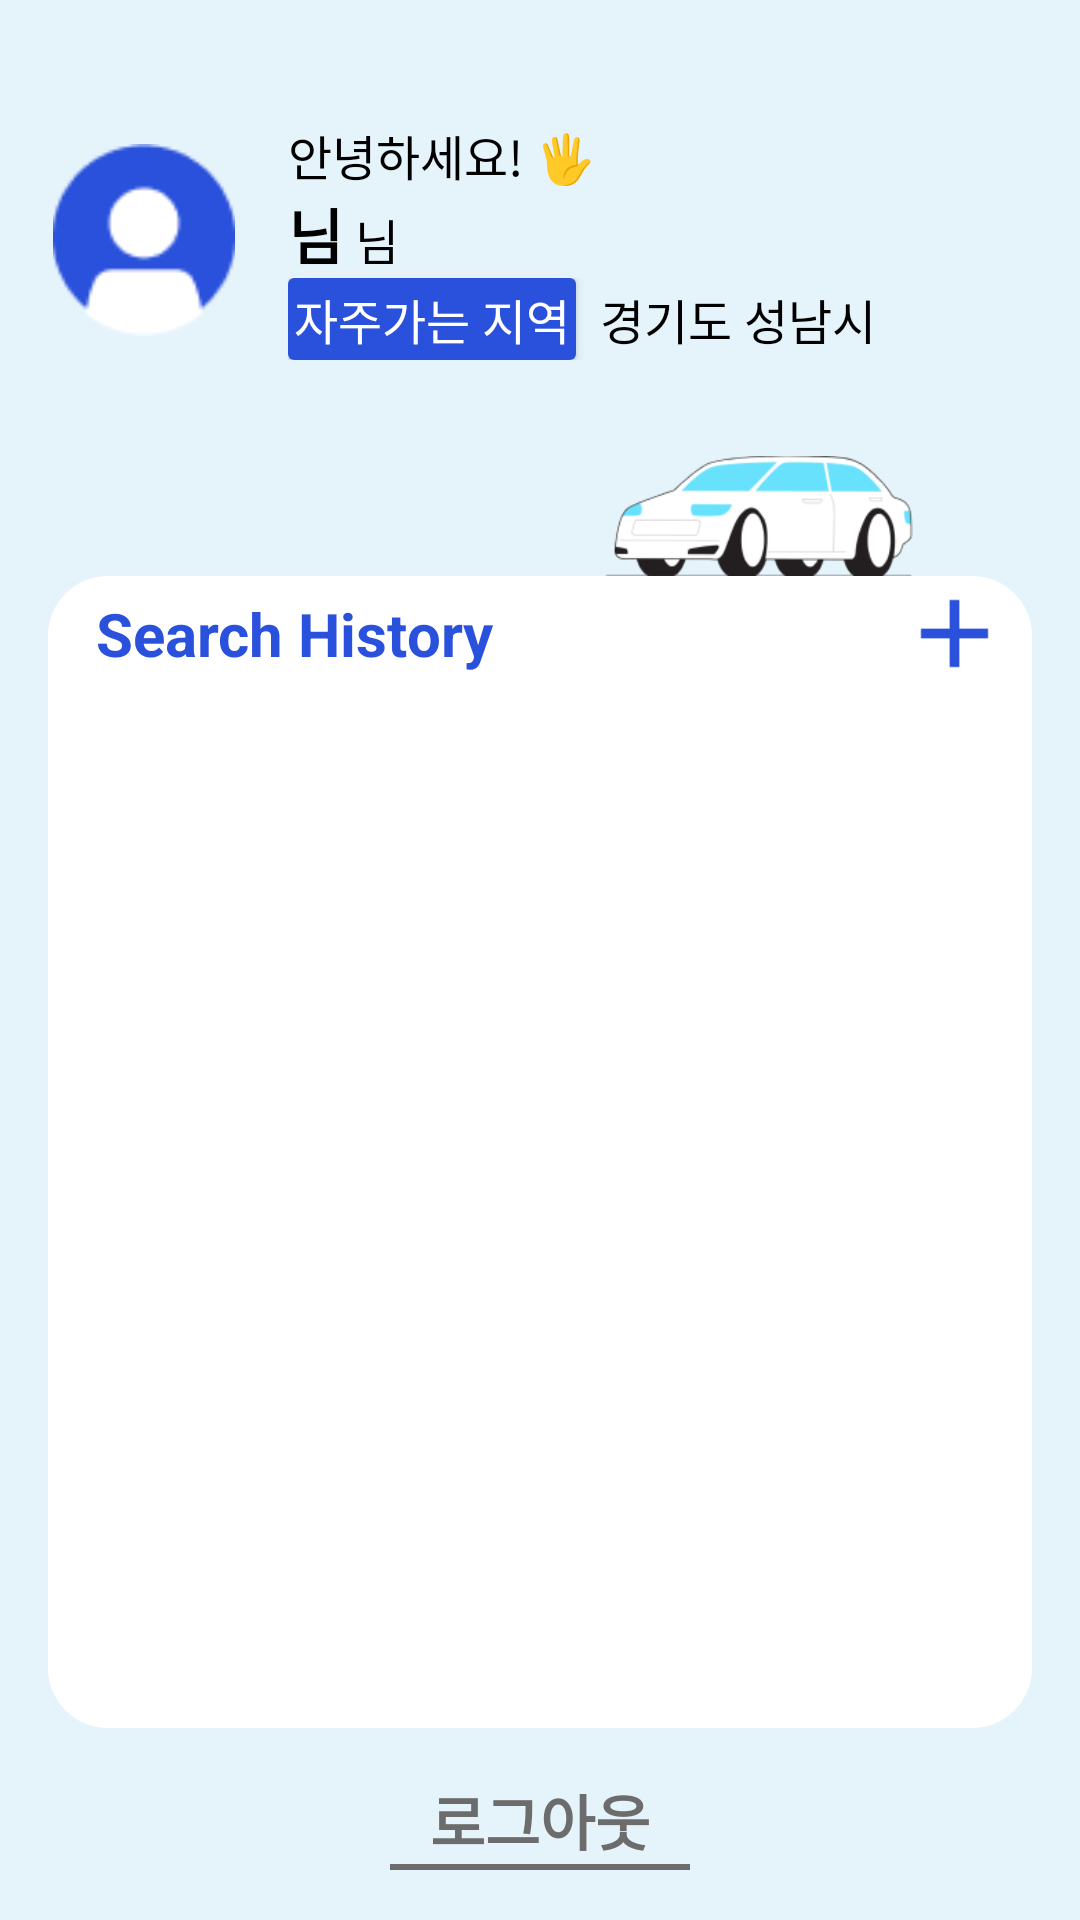

Point at icon controls on the screen. Image size 1080×1920, points as point (x, y).
add: point (954, 633)
car: point (759, 516)
